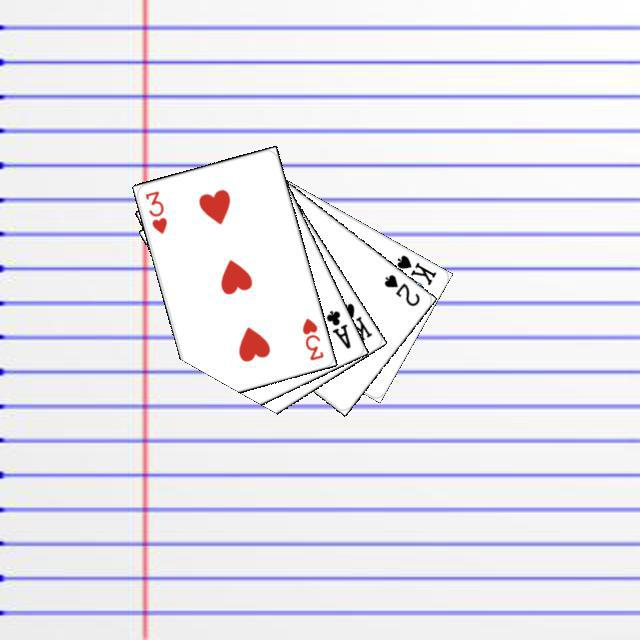2s: (379, 269, 422, 308)
3h: (140, 186, 169, 236), (297, 313, 325, 362)
Ac: (321, 305, 352, 351)
Ks: (335, 298, 374, 344), (391, 250, 438, 287)
